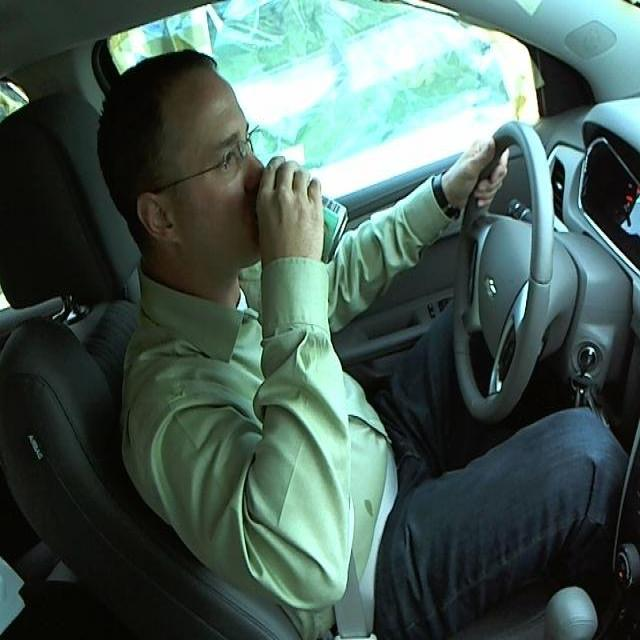drinking: (265, 171, 349, 266)
